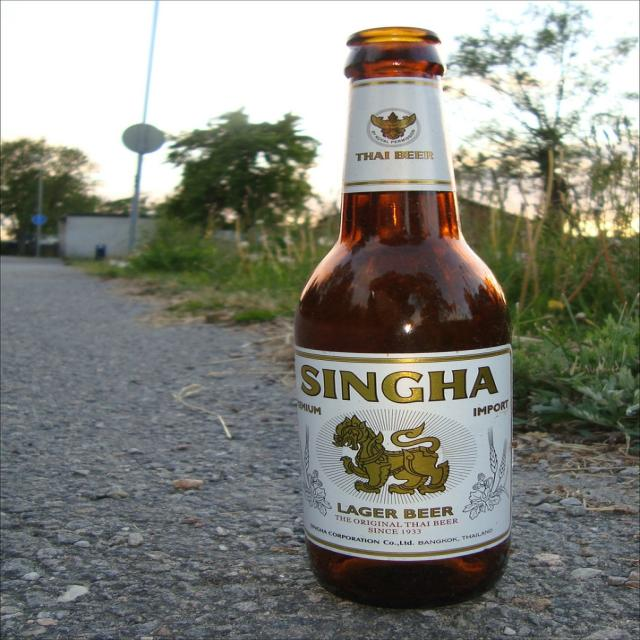singha: (296, 350, 512, 560)
